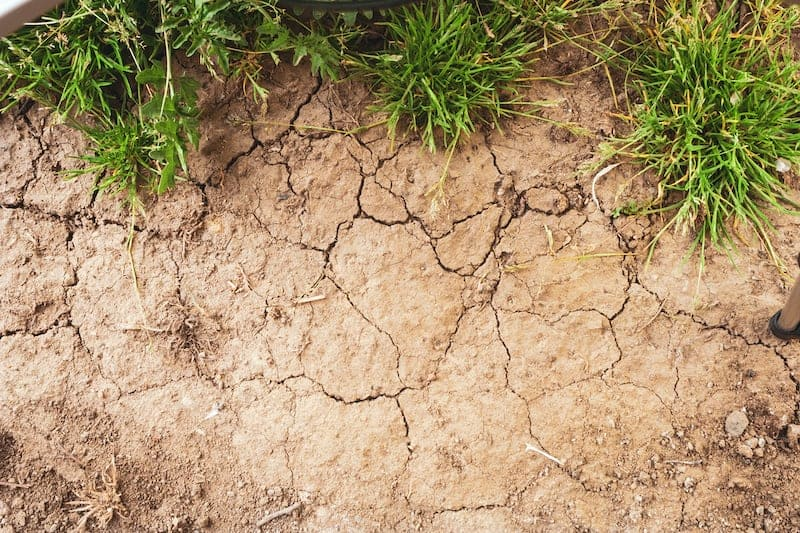dirt: (6, 148, 789, 532)
grass: (12, 9, 799, 140)
